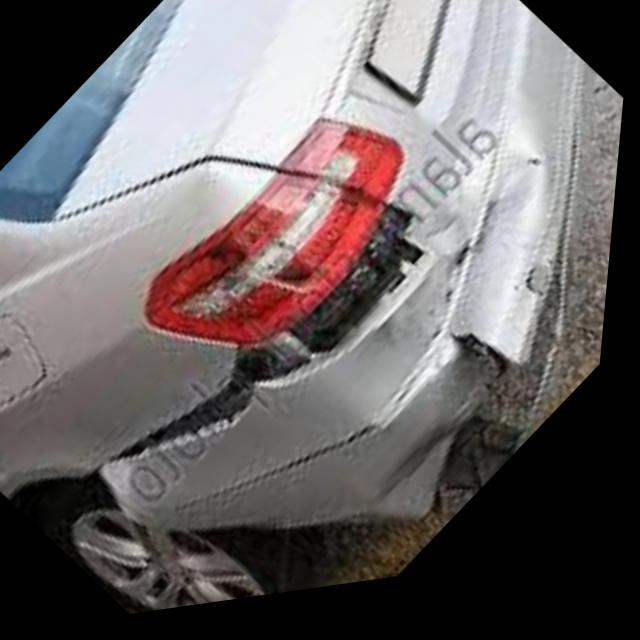dislocated part: (78, 125, 607, 553)
